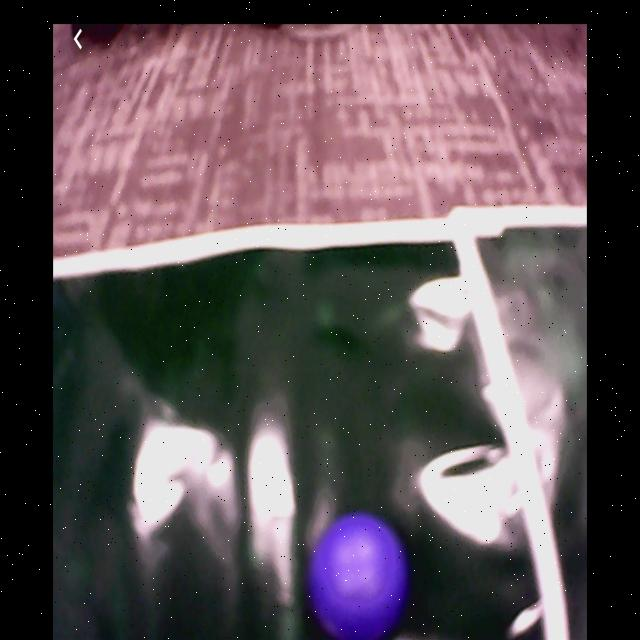ball: (310, 512, 408, 640)
